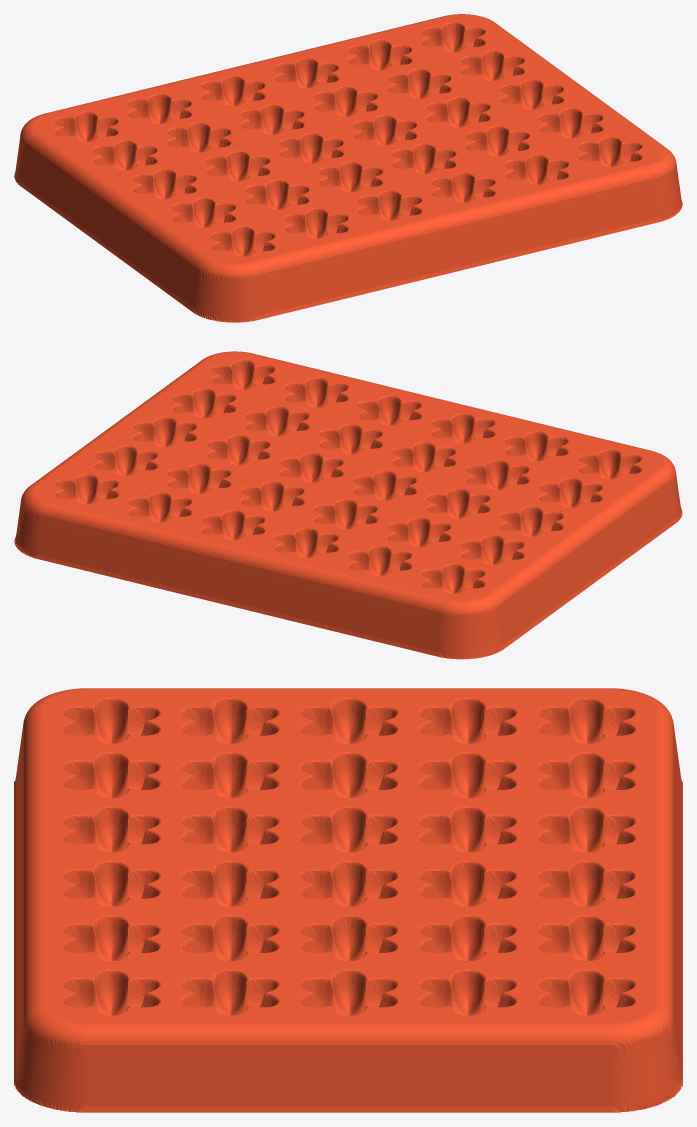
Rendered from mold.glb.
The picture shows the model from 3 angles, top to bottom: view 1: azimuth 30°, elevation 25°; view 2: azimuth 150°, elevation 25°; view 3: azimuth 270°, elevation 25°; orthographic projection. The views are drawn at different scales.
Parts seen in each view (by area): view 1: geometry_0; view 2: geometry_0; view 3: geometry_0.
Part boxes in pixels (x1,y1,x2,y2): geometry_0: (14, 14, 682, 322); geometry_0: (14, 351, 682, 659); geometry_0: (14, 688, 682, 1112).
Bounding box in the file's own units: 0.104 × 0.0105 × 0.0822.
